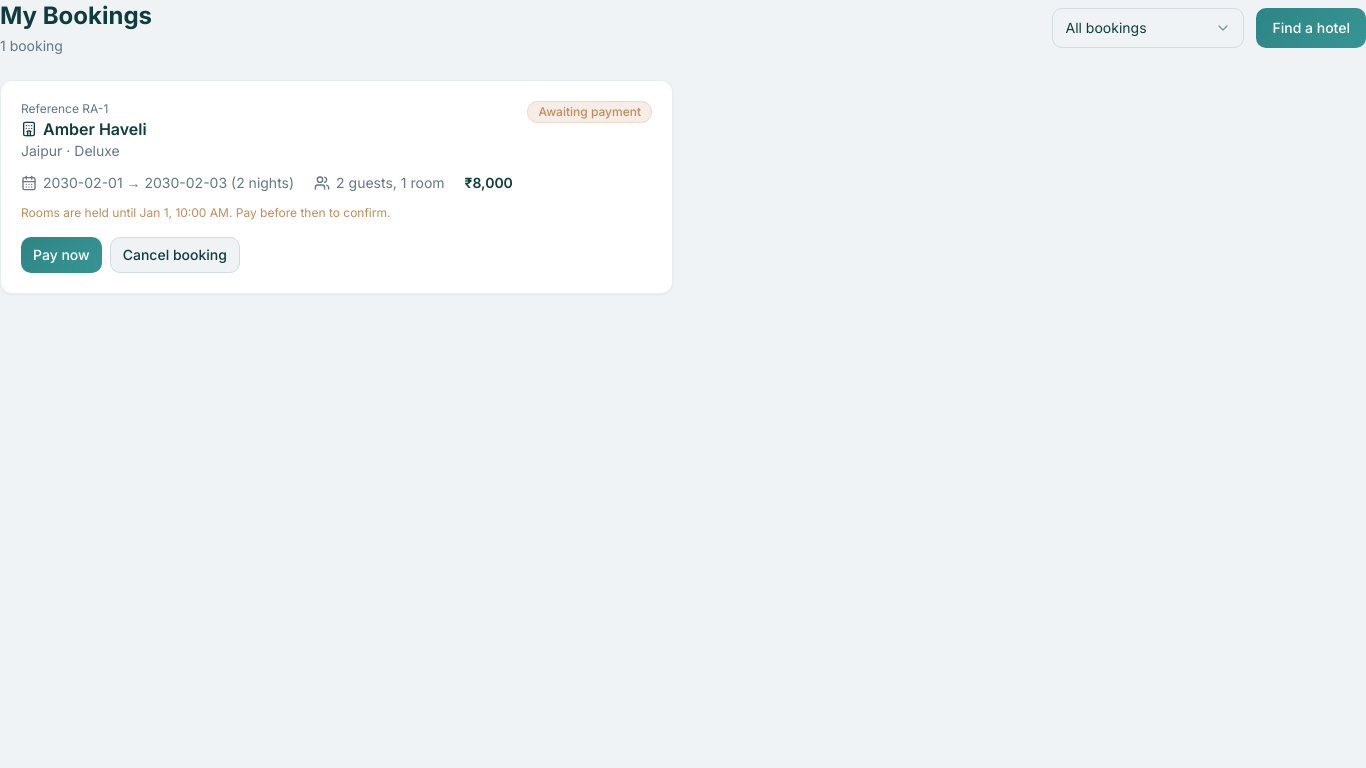
Scenario: My bookings › shows a decline inline and keeps the dialog open
Click the button "Pay now" at (61, 255), box [21,237,102,273]
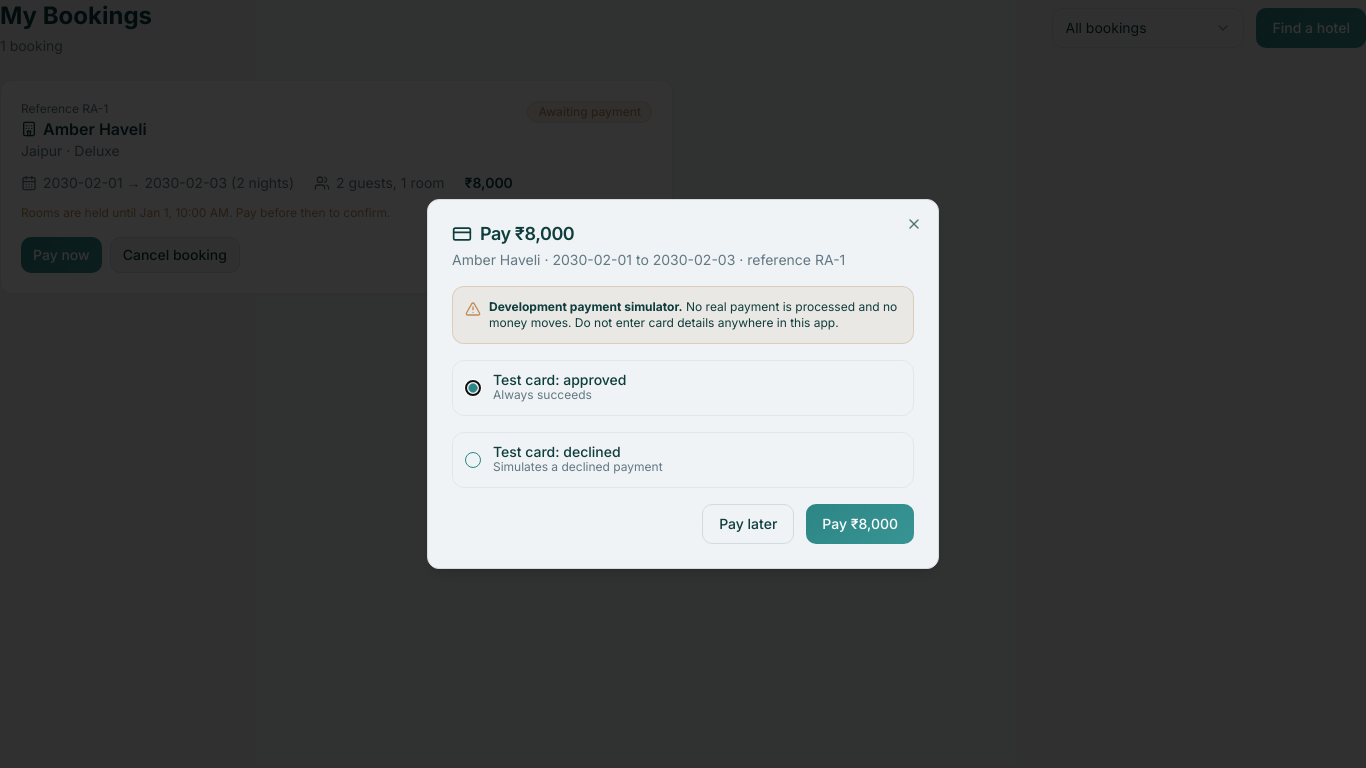
Click the button "Pay ₹8,000" at (860, 524), box [806,504,914,544]
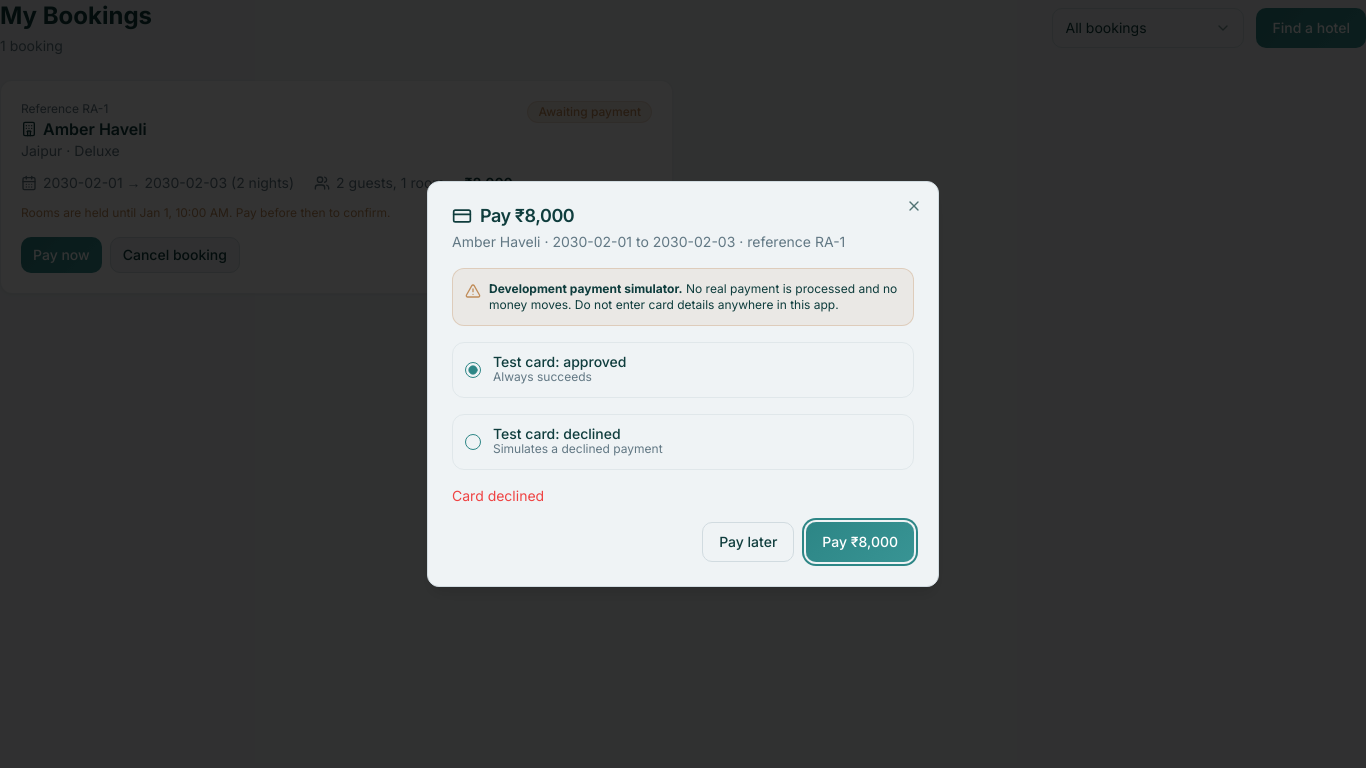
Expected: the text "Card declined" is shown, [452,487,544,504]
